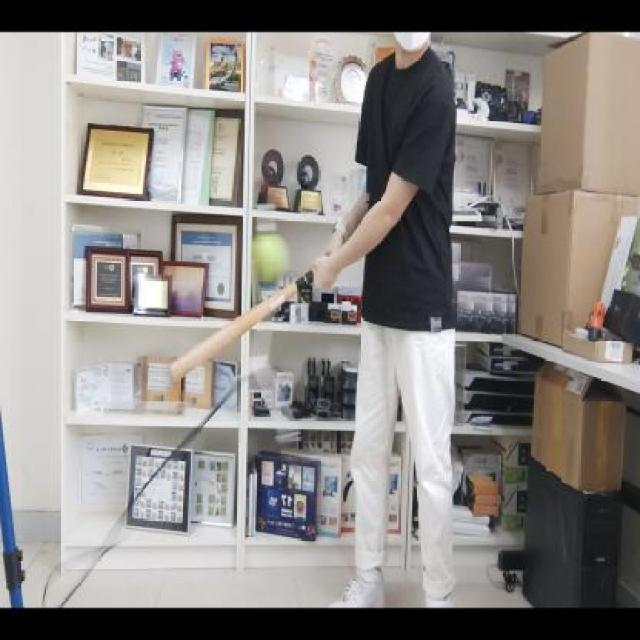ball: (246, 233, 288, 284)
bat: (170, 269, 314, 377)
